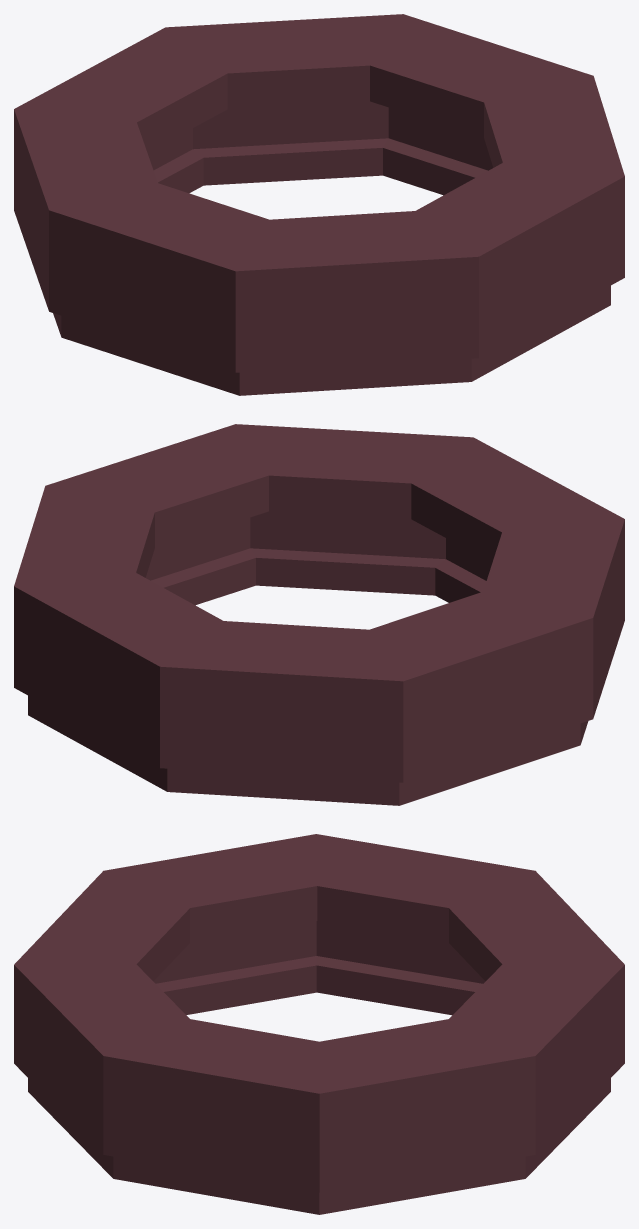
The model's file is concrete-ring-top.fbx.
3 views of the same model, one above another, from view 1: azimuth 30°, elevation 25°; view 2: azimuth 150°, elevation 25°; view 3: azimuth 270°, elevation 25° (orthographic). The views are drawn at different scales.
Visible parts, largest first — view 1: concrete-ring-top; view 2: concrete-ring-top; view 3: concrete-ring-top.
Boxes of the visible parts, x1,y1,x2,y2 form: concrete-ring-top: [14, 14, 624, 395]; concrete-ring-top: [14, 424, 624, 805]; concrete-ring-top: [14, 834, 624, 1214].
Size of the model in its own units: 0.7959 by 0.1816 by 0.7911.
